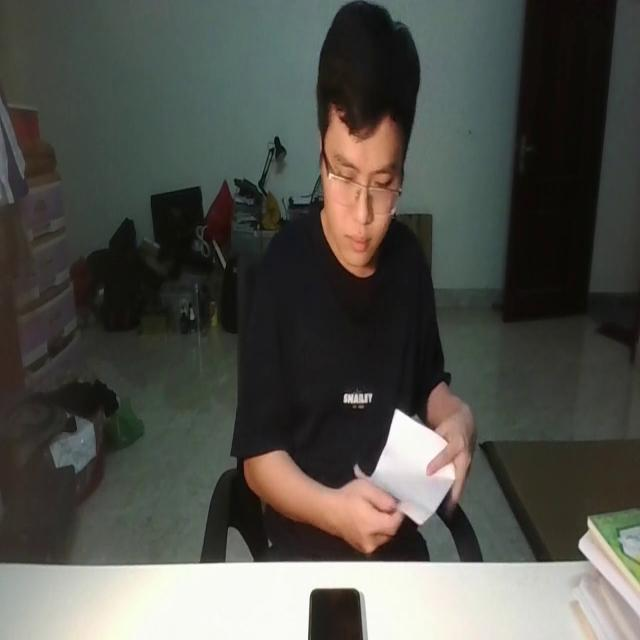book: (350, 405, 456, 528)
phone: (306, 588, 364, 640)
student: (234, 0, 475, 560)
